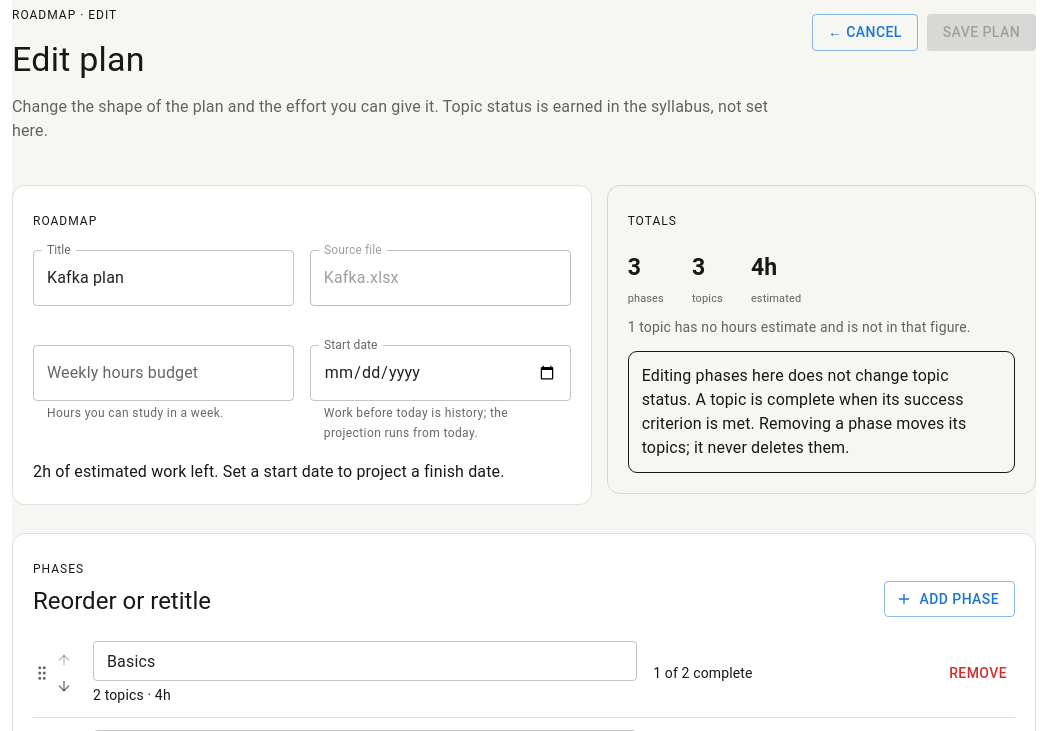
Test: RoadmapEditorPage › projects the unsaved budget through the server, and says what is missing instead of assuming a pace
Expected: the text "2h of estimated work left. Set a start date to project a finish date." is shown, x1=33 y1=460 x2=571 y2=484
Type "7" into the number field labelled "Weekly hours budget" at point(163, 373), box x1=33 y1=345 x2=294 y2=401
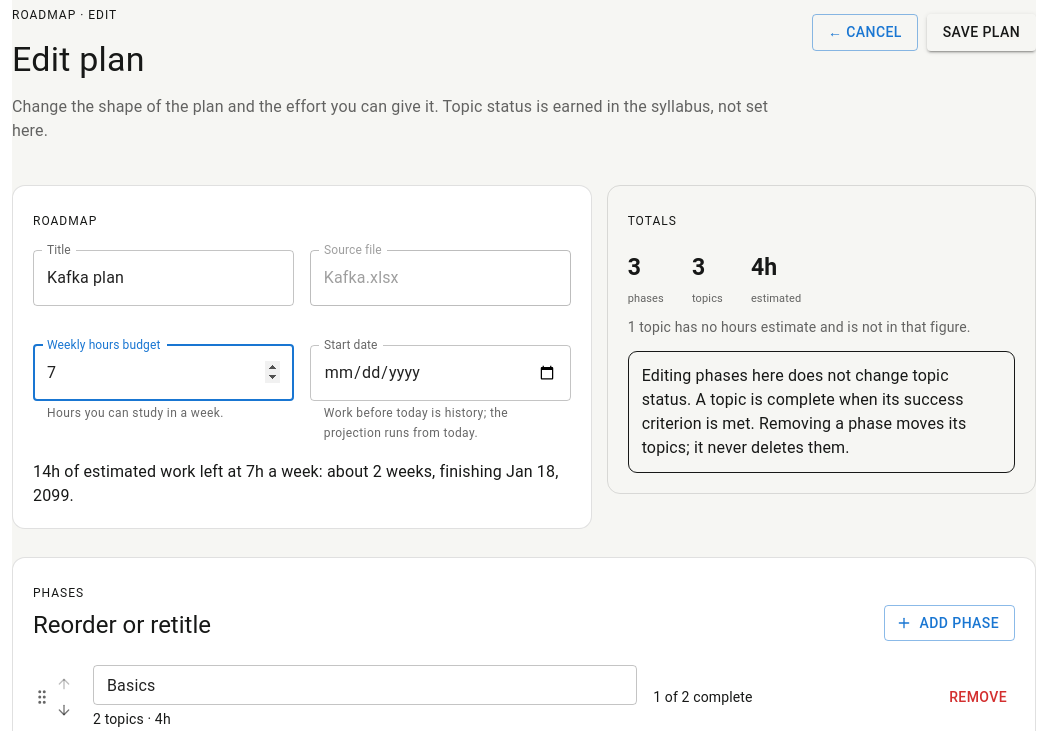
Expected: the text "14h of estimated work left at 7h a week: about 2 weeks, finishing" is shown, x1=33 y1=462 x2=558 y2=504
